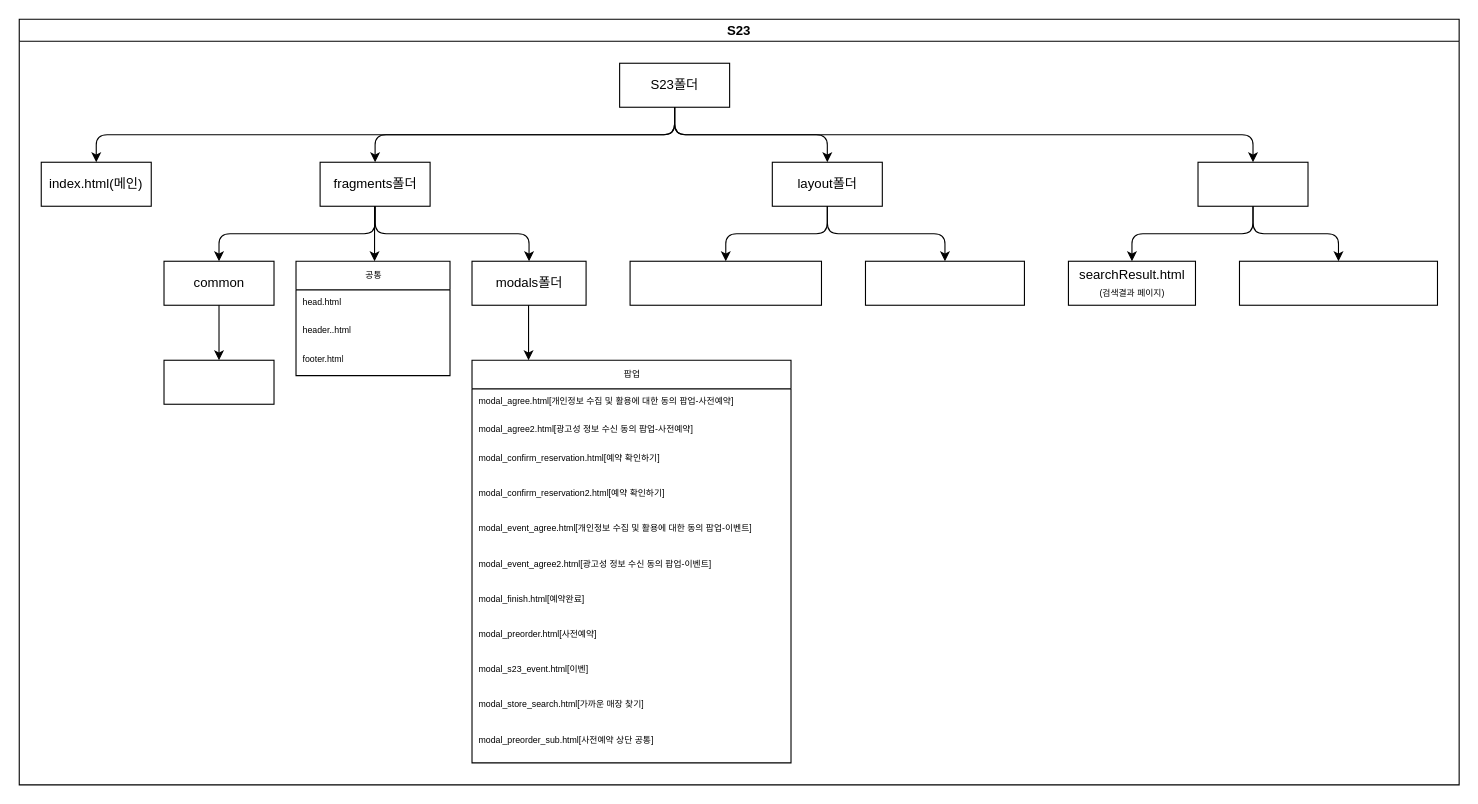
The diagram is 1478 pixels wide and 804 high, and some of its shapes have lost their labels. Each missing label, with the centre of its shape:
"common_layout.html ( 메인 페이지에서 셋팅 thymeleaf )" belongs at pixel 944 282.
"common_layout_popup.html ( 레이어 팝업 셋팅 thymeleaf )" belongs at pixel 725 282.
"searchResultOpenMap.html ( 검색 결과 맵 페이지 )" belongs at pixel 1337 282.
"store폴더" belongs at pixel 1252 183.
"ubot.html ( 퀵 페이지 )" belongs at pixel 218 381.
